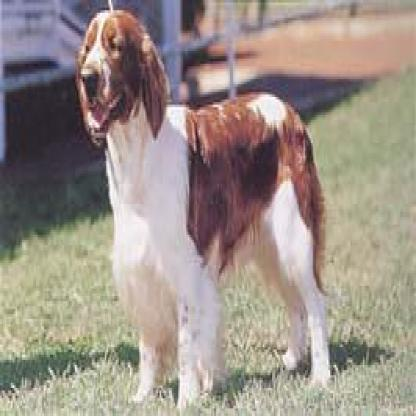Welsh_springer_spaniel: (74, 5, 332, 411)
